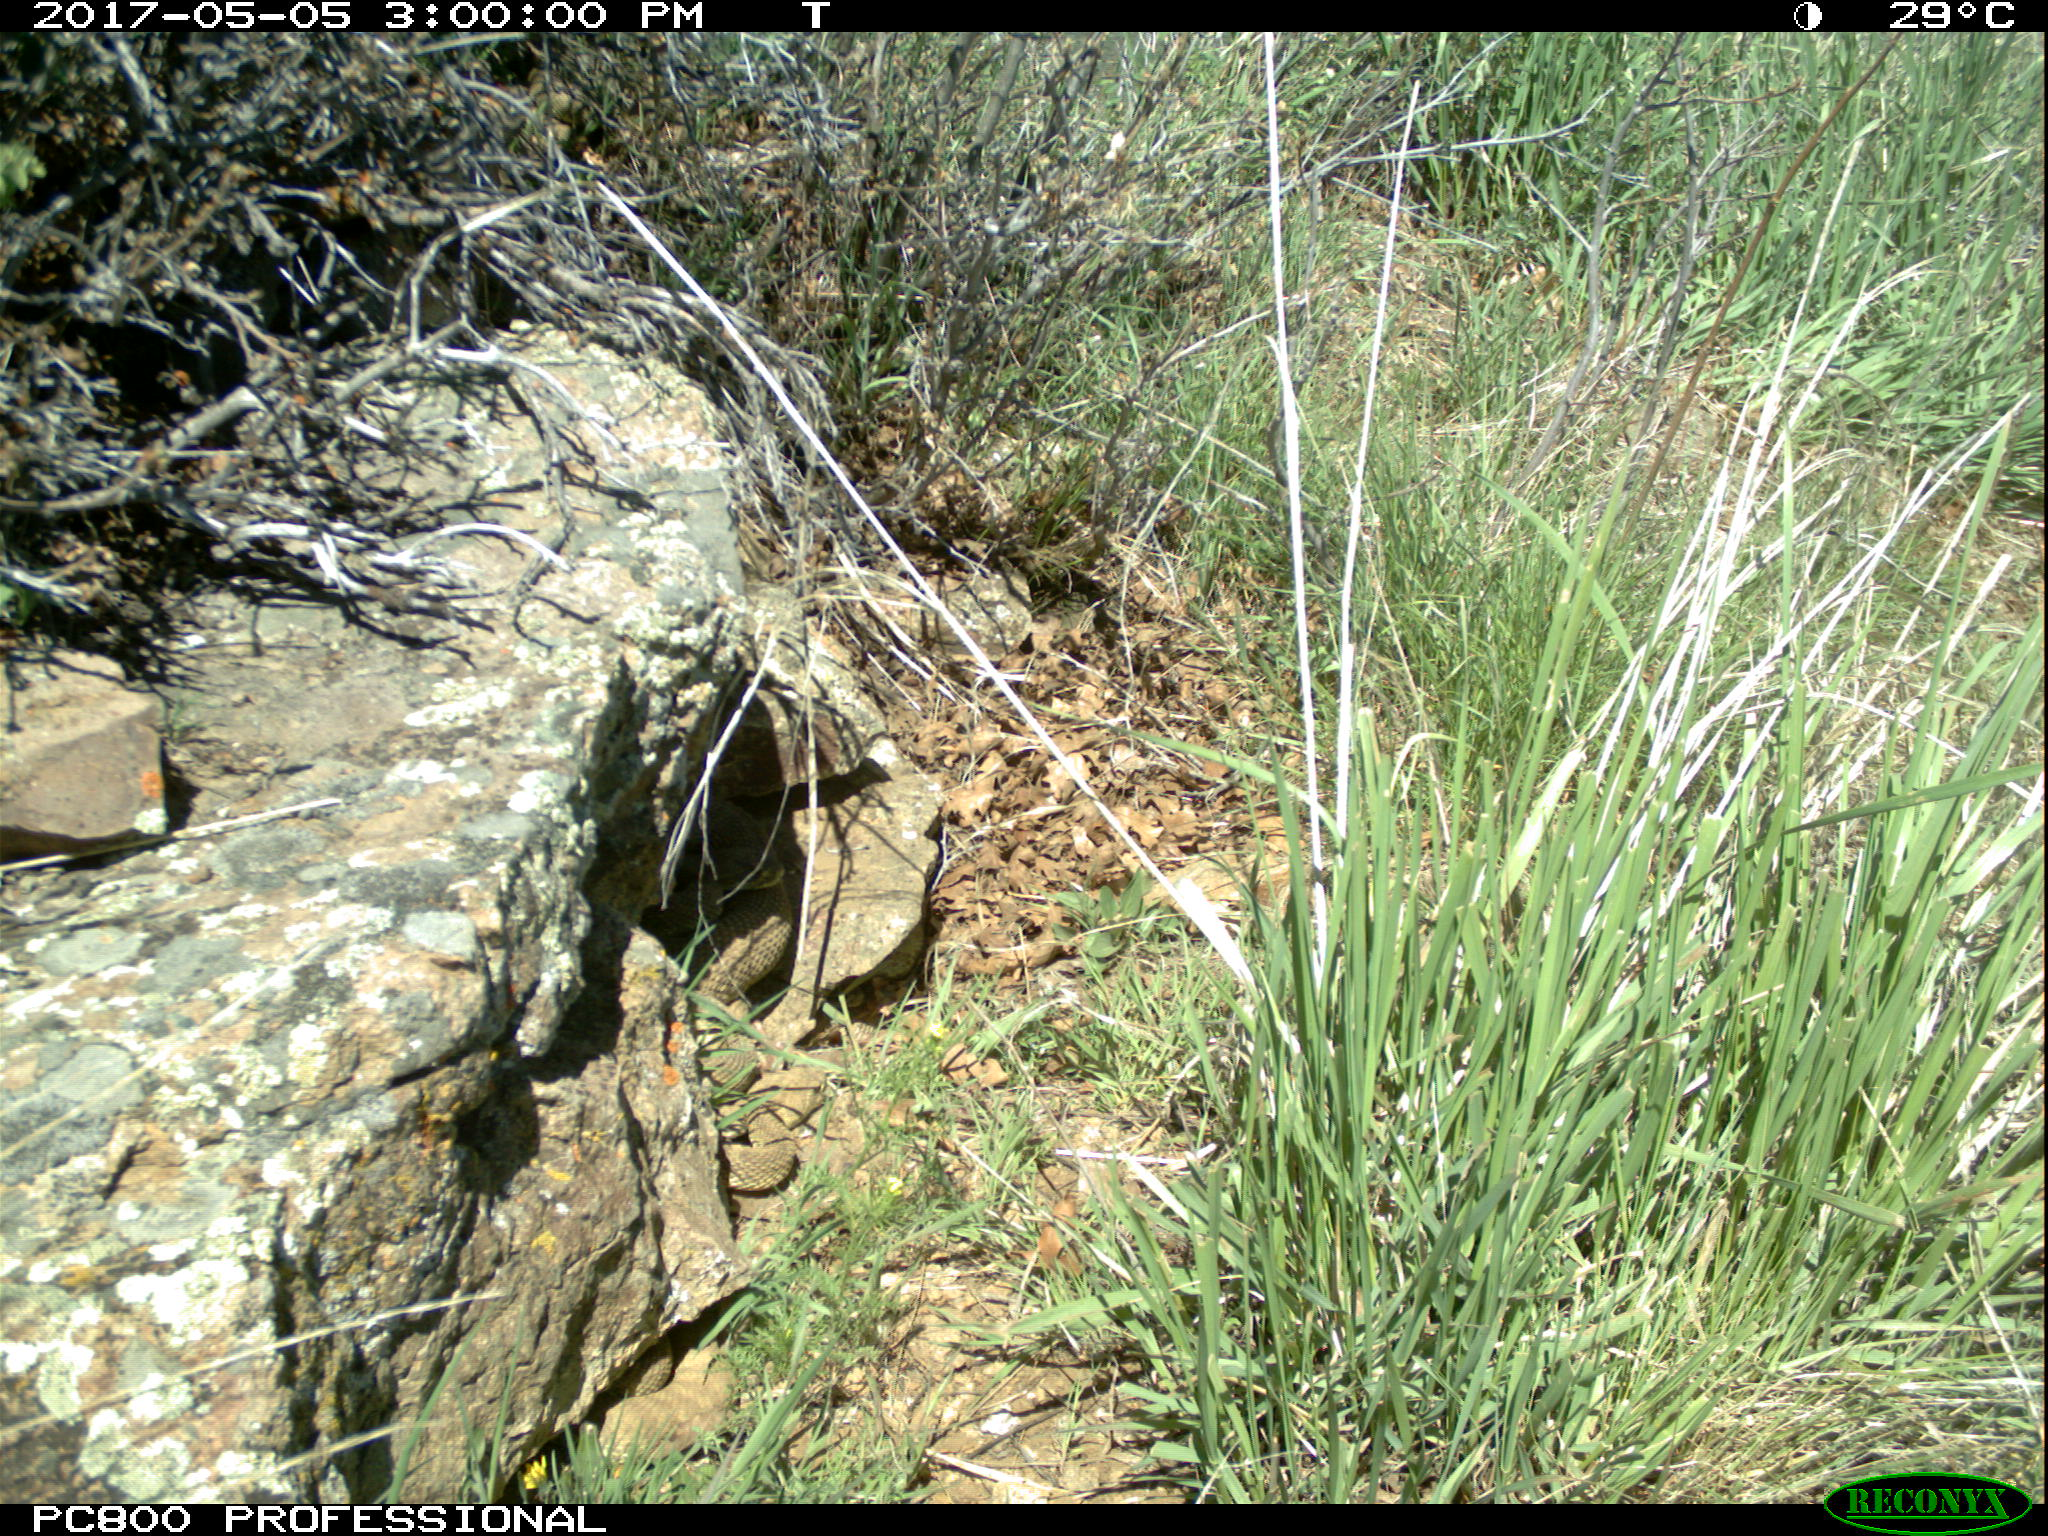snake: (681, 891, 797, 1197), (598, 1326, 748, 1467)
